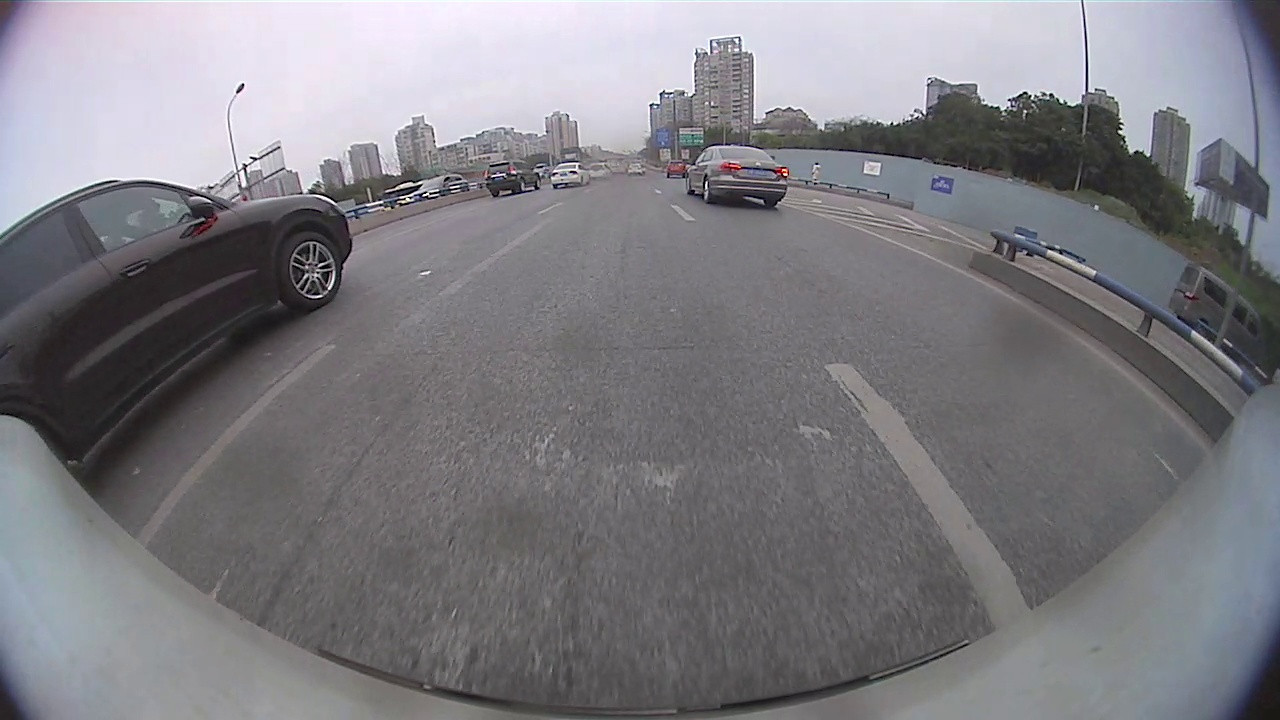bus: (380, 179, 421, 209)
car: (0, 175, 356, 472), (1168, 256, 1268, 369), (682, 142, 791, 211), (483, 157, 544, 197), (548, 159, 593, 191), (418, 172, 470, 198)
front: (277, 227, 345, 310), (536, 177, 543, 192)
person: (812, 161, 821, 185)
rear: (701, 177, 711, 204), (520, 178, 528, 198)
